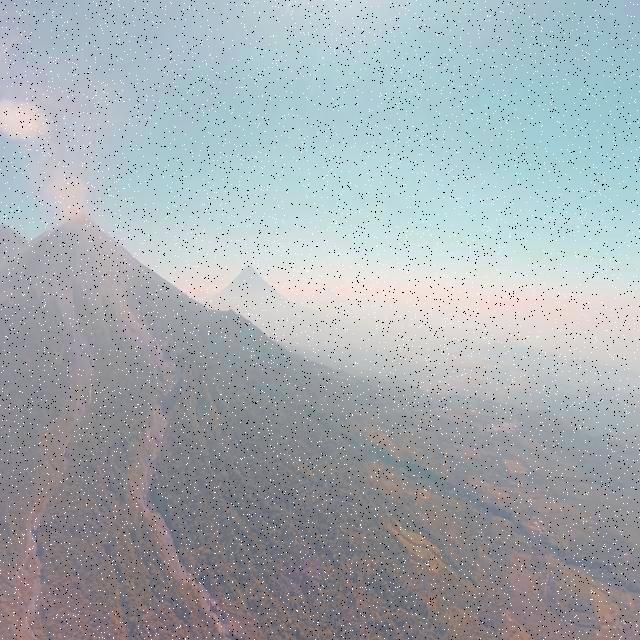Plume: (0, 65, 55, 148), (36, 165, 92, 219)
Summit: (52, 206, 106, 239)
